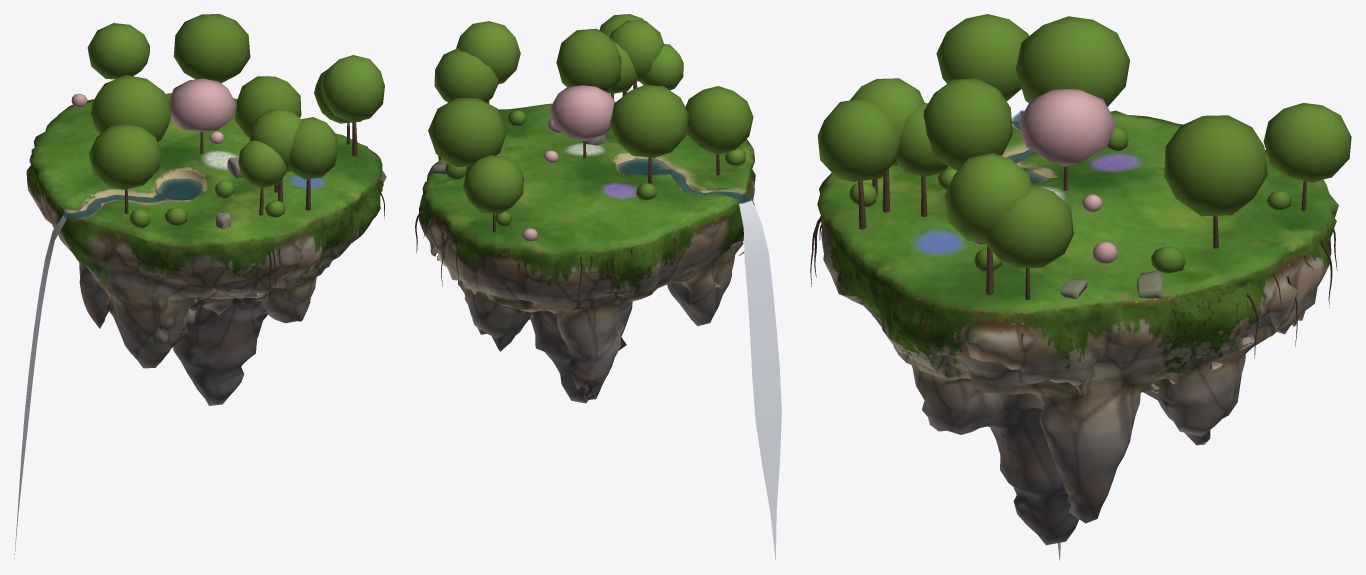
Rendered from island-meadow-lod1.glb.
3 renders of one model, left to right at view 1: azimuth 30°, elevation 25°; view 2: azimuth 150°, elevation 25°; view 3: azimuth 270°, elevation 25°, orthographic. The views are drawn at different scales.
Visible parts, largest first — view 1: Terrain, Detail, Pond, Stream; view 2: Terrain, Detail, Pond, Stream; view 3: Terrain, Detail.
Part boxes in pixels (x1,y1,x2,y2): Terrain: (26, 93, 386, 405); Detail: (14, 14, 384, 558); Pond: (154, 178, 203, 201); Stream: (63, 193, 169, 218); Terrain: (419, 103, 755, 403); Detail: (415, 14, 781, 560); Pond: (616, 158, 675, 175); Stream: (658, 169, 752, 203); Terrain: (817, 110, 1338, 545); Detail: (810, 14, 1351, 560).
Bounding box in the file's own units: 46.16 × 56.93 × 44.39.
Materials: 4 (1 with a texture image).
